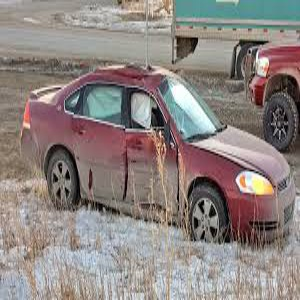door: (80, 122, 175, 205)
